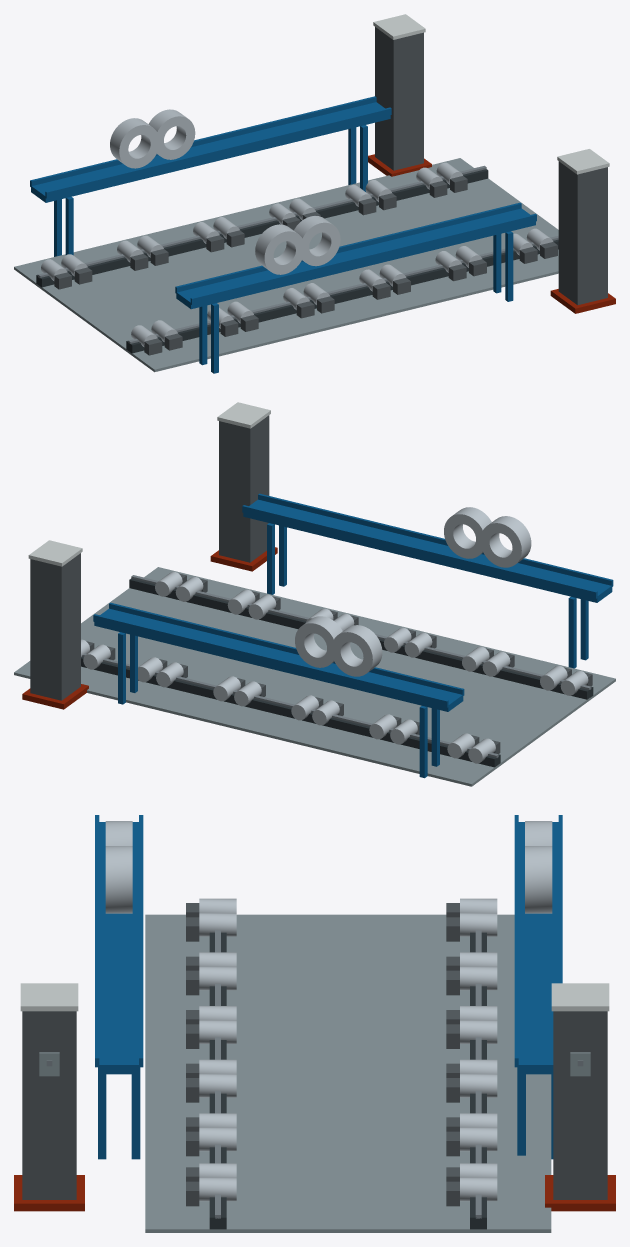
Rendered from preparation_infeed_bench.dae.
3 views of the same model, one above another, from view 1: azimuth 30°, elevation 25°; view 2: azimuth 150°, elevation 25°; view 3: azimuth 270°, elevation 25° (orthographic). The views are drawn at different scales.
Parts seen in each view (by area): view 1: preparation_infeed_bench; view 2: preparation_infeed_bench; view 3: preparation_infeed_bench.
Part boxes in pixels (box(x1,y1,x2,y2)): preparation_infeed_bench: box(14, 14, 615, 373); preparation_infeed_bench: box(14, 402, 615, 786); preparation_infeed_bench: box(14, 815, 615, 1232).
Bounding box in the file's own units: 4.4 × 3.56 × 1.32.
